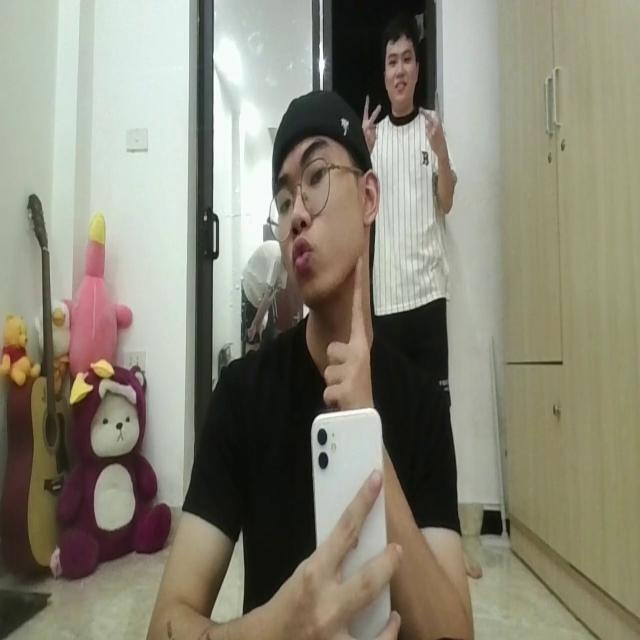extra_person: (359, 11, 456, 394)
phone: (311, 402, 395, 634)
student: (133, 89, 472, 640)
